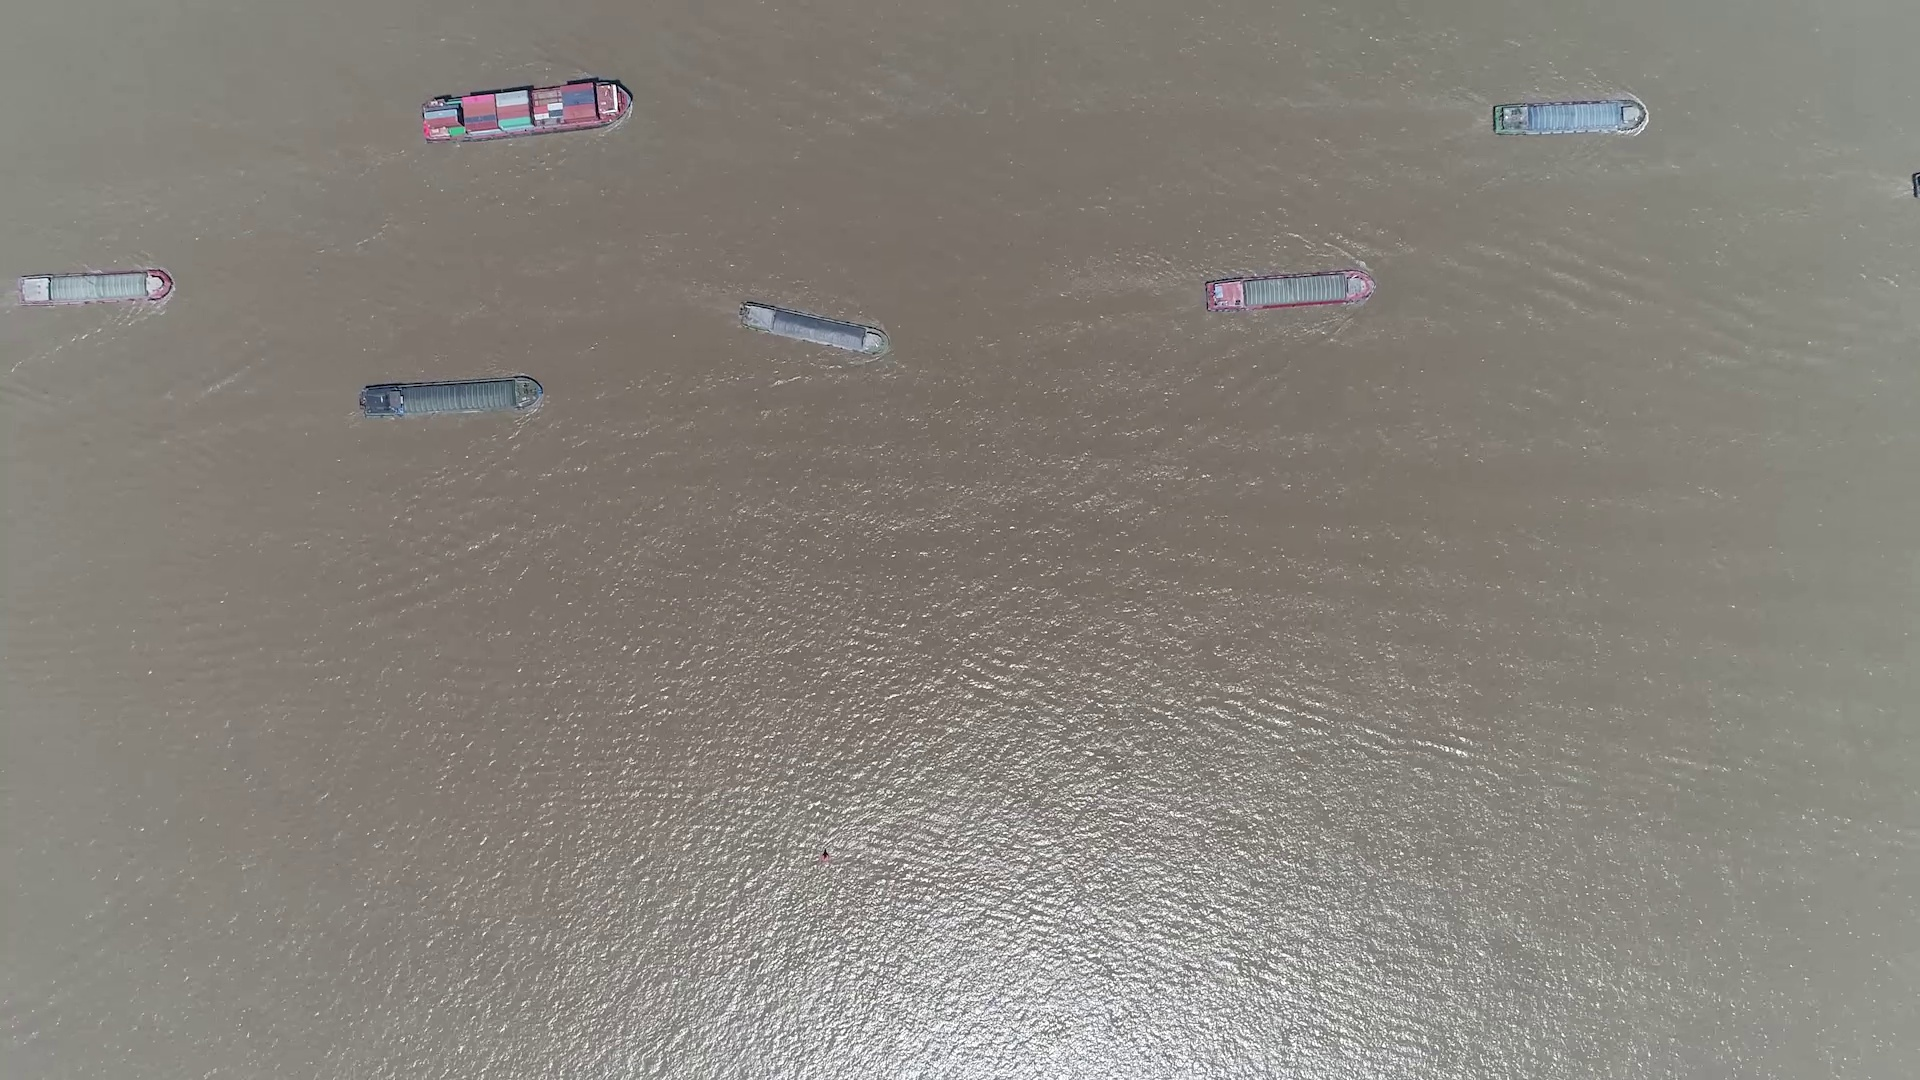ship: (421, 82, 632, 142), (738, 301, 887, 357), (360, 378, 541, 418), (1205, 270, 1374, 311), (1494, 99, 1647, 135), (18, 272, 171, 305)
